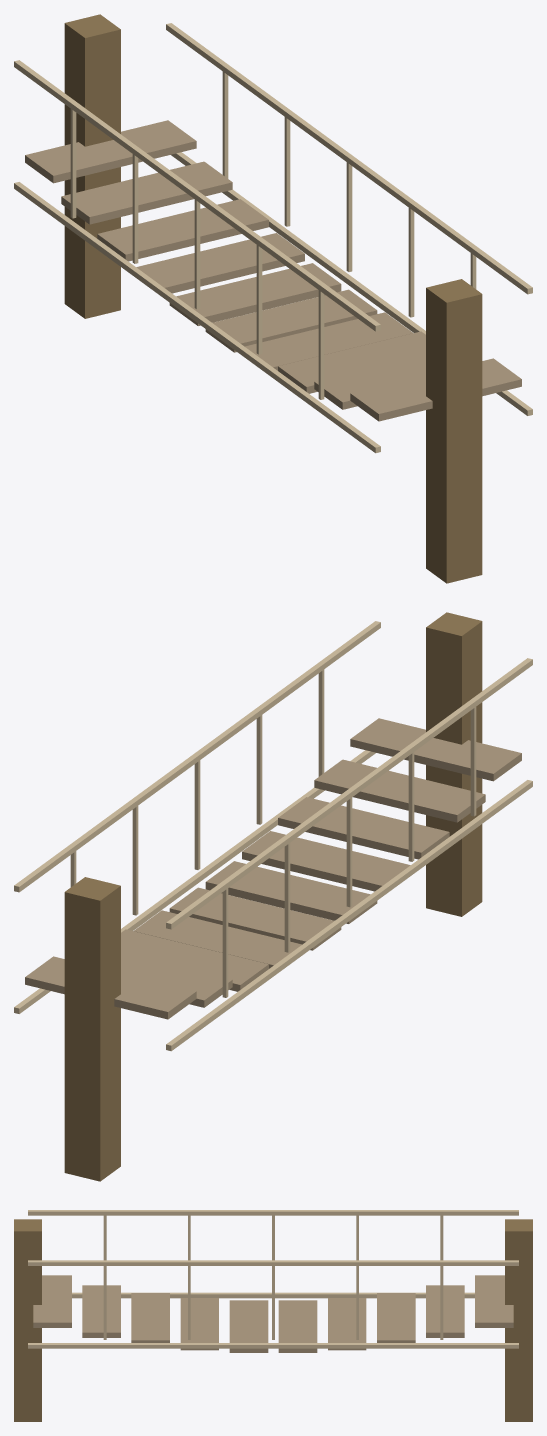
The model's file is prop_ropebridge.glb.
The picture shows the model from 3 angles, top to bottom: view 1: azimuth 30°, elevation 25°; view 2: azimuth 150°, elevation 25°; view 3: azimuth 270°, elevation 25°; orthographic projection. The views are drawn at different scales.
Parts seen in each view (by area): view 1: Prop_RopeBridge; view 2: Prop_RopeBridge; view 3: Prop_RopeBridge.
Part boxes in pixels (x1,y1,x2,y2): Prop_RopeBridge: (14, 14, 532, 583); Prop_RopeBridge: (14, 612, 532, 1181); Prop_RopeBridge: (14, 1210, 532, 1421).
Bounding box in the file's own units: 1.76 × 3 × 7.4.
